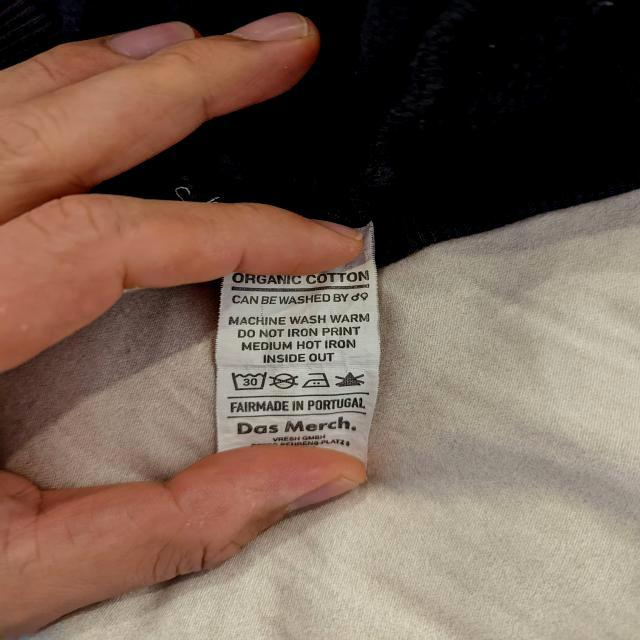30C: (231, 369, 268, 394)
DN_bleach: (334, 369, 367, 390)
DN_dry_clean: (268, 369, 300, 392)
iron_medium: (304, 369, 331, 391)
